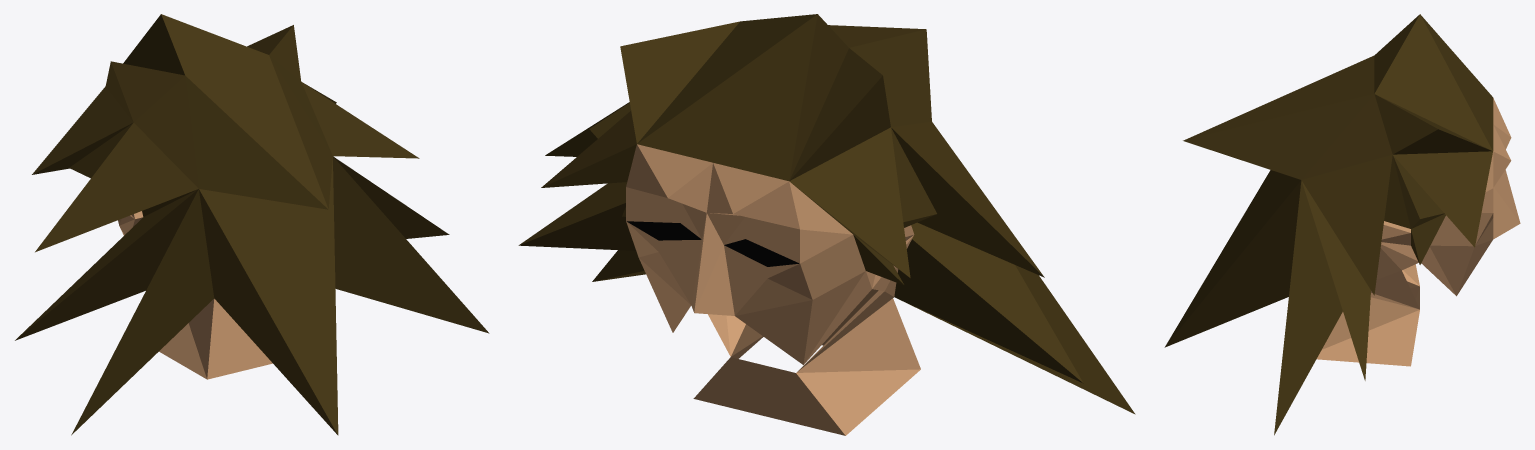
File: player_male_head_7_0.obj
3 views of the same model, side by side, from view 1: azimuth 30°, elevation 25°; view 2: azimuth 150°, elevation 25°; view 3: azimuth 270°, elevation 25° (orthographic). The views are drawn at different scales.
Bounding box in the file's own units: 0.4062 × 0.2969 × 0.3047.
